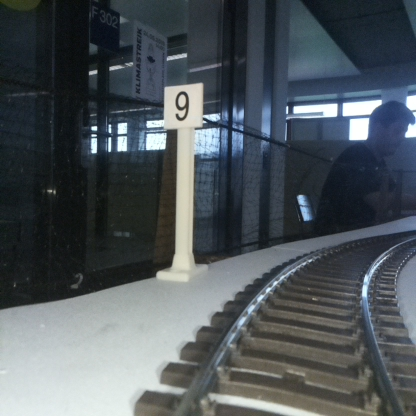white-info-9: (164, 83, 202, 279)
